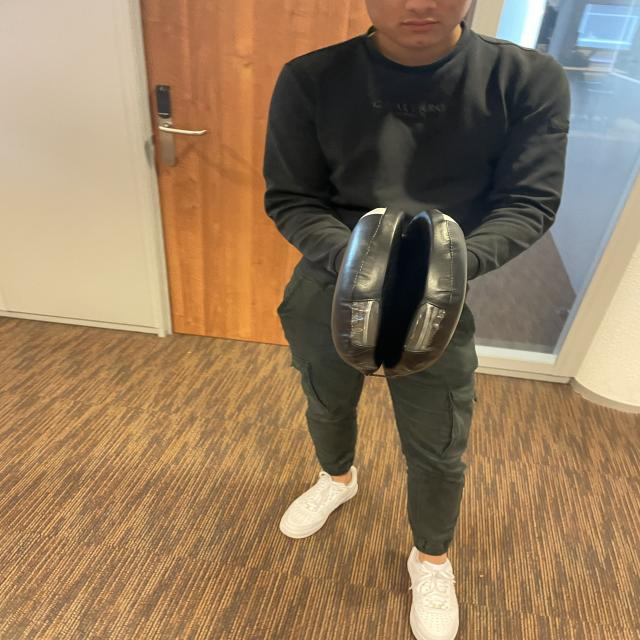paddle: (339, 207, 464, 376)
